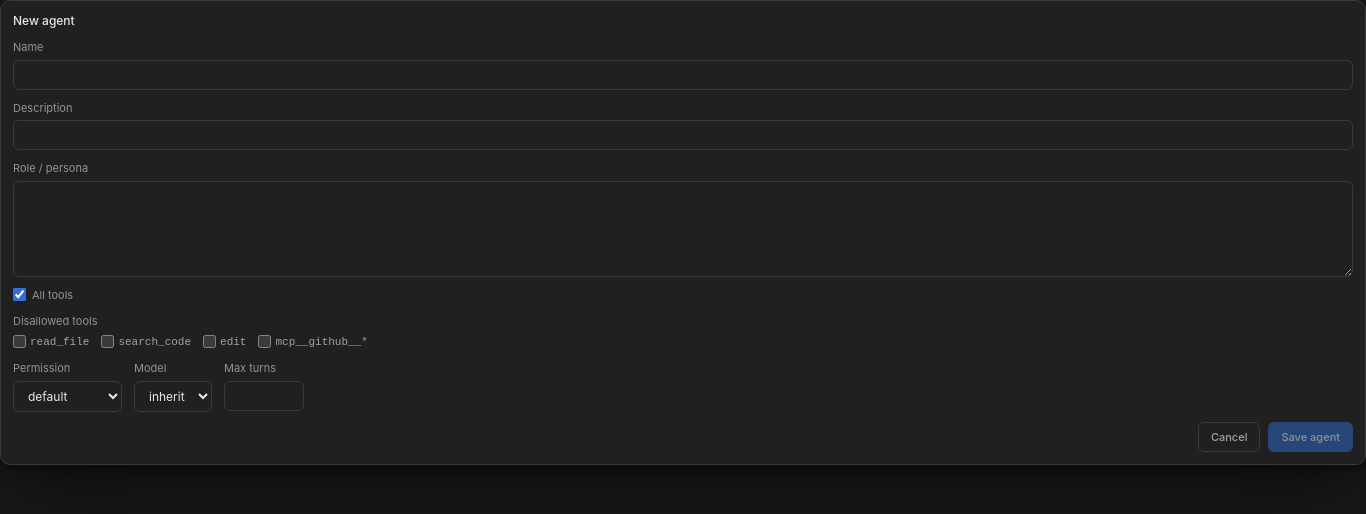
AgentForm › warns when a new name replaces an existing .crucible file
The width and height of the screenshot is (1366, 514).
Type "taken" into the field labelled "Name" at (683, 74), box [13,60,1353,90]
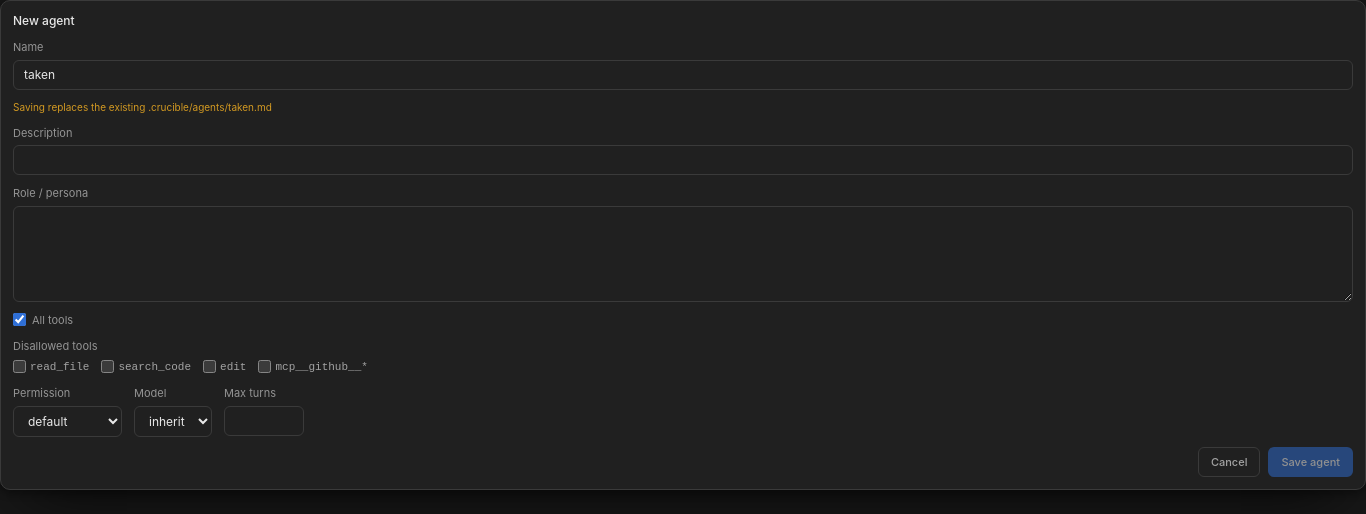
Result: the text "Saving replaces the existing .crucible/agents/taken.md" is shown at [13,100,272,112]
